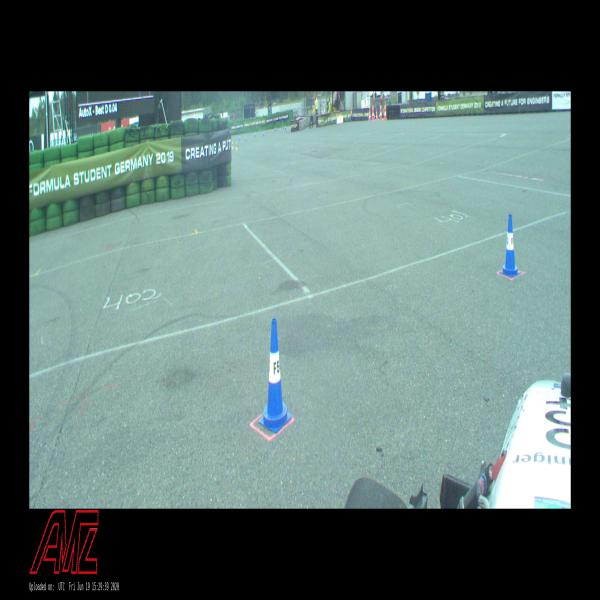blue_cone: (259, 318, 292, 433), (500, 214, 520, 277)
large_orange_cone: (384, 102, 387, 119), (380, 102, 382, 120), (372, 104, 374, 120)
